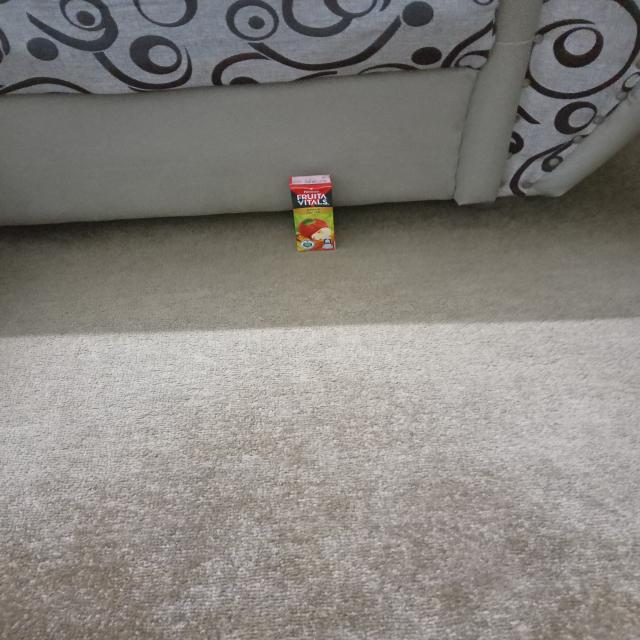Plastic: (286, 170, 344, 256)
